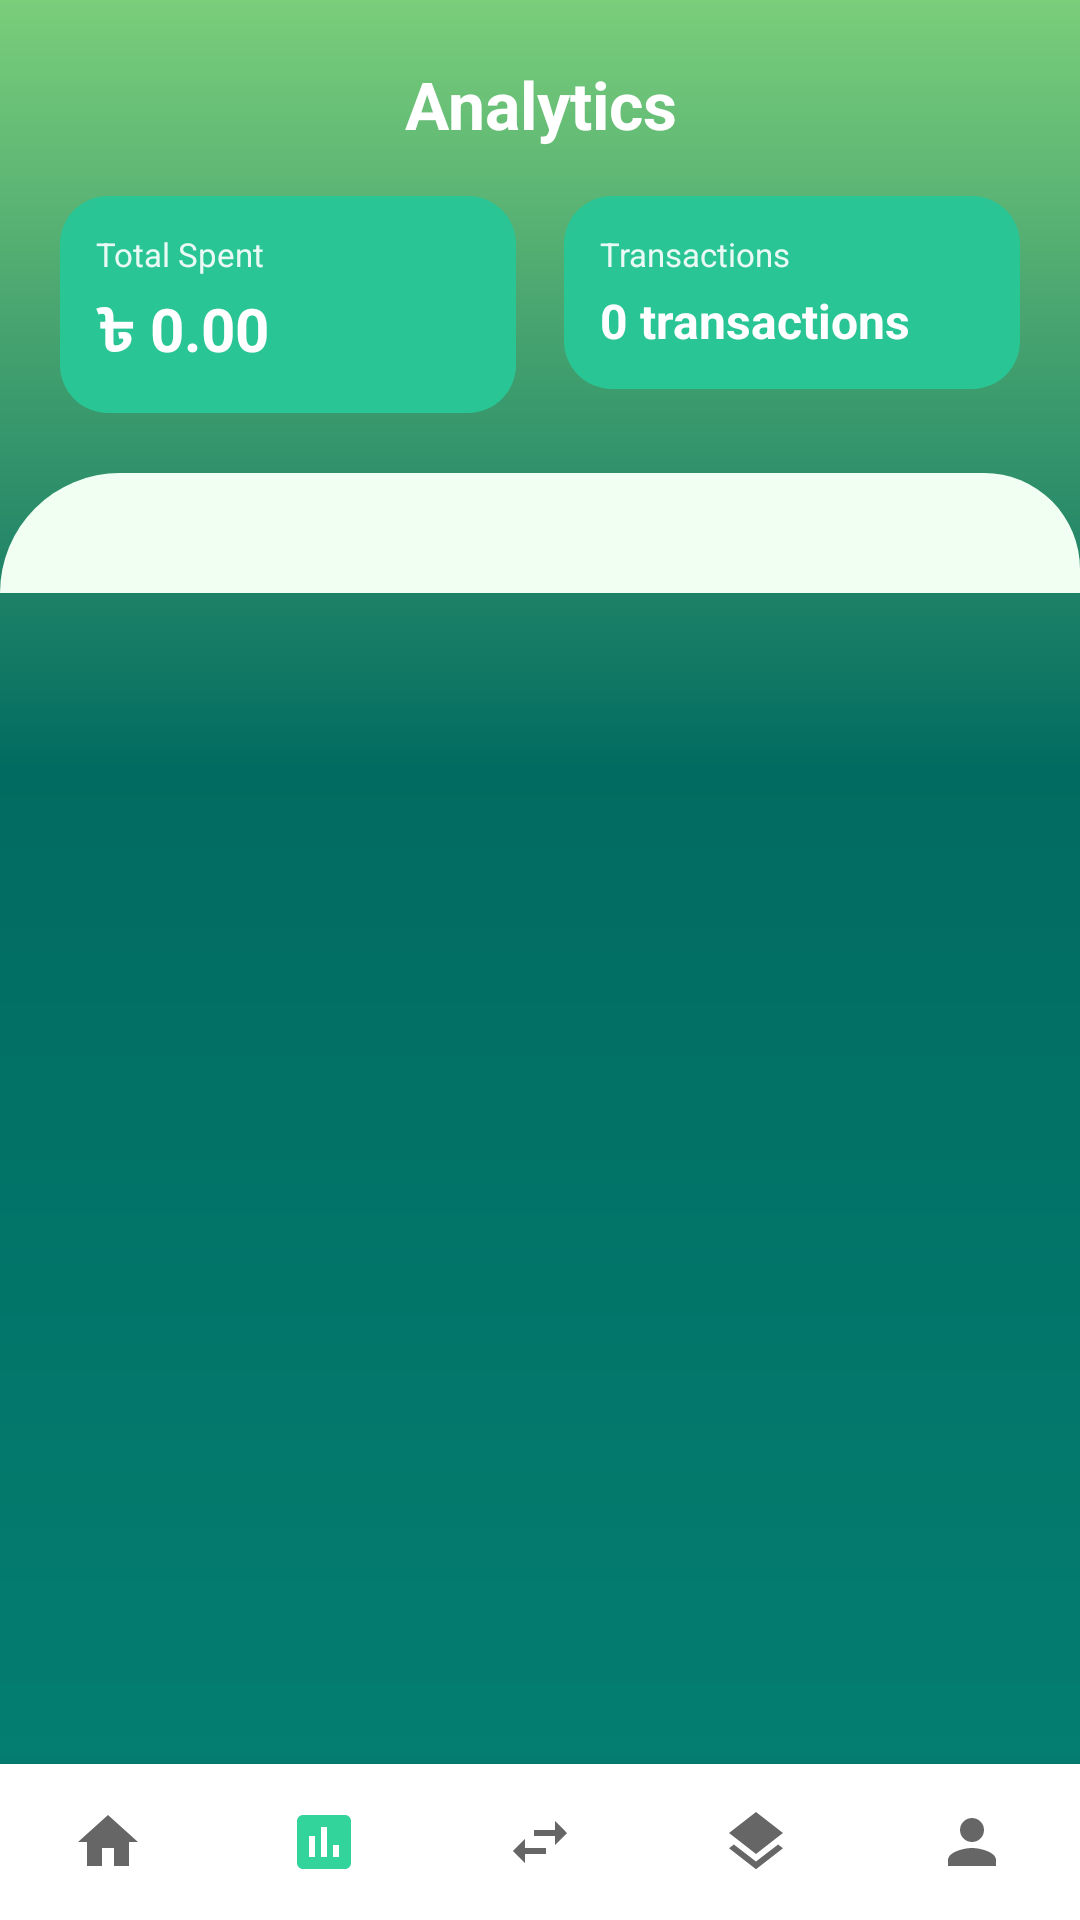

Icon click points for this 1080px×1920px phone screenshot, format (x=x, y=y):
analytics: (x=324, y=1842)
home: (x=108, y=1840)
layers: (x=756, y=1840)
profile: (x=972, y=1842)
transfer: (x=540, y=1842)
